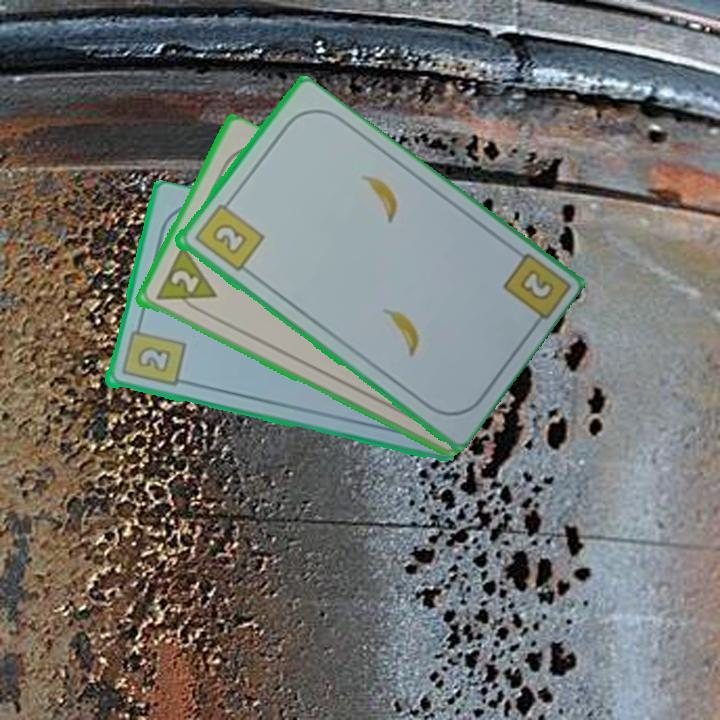2b: (190, 194, 266, 274), (118, 319, 187, 390), (515, 265, 557, 304)
2p: (151, 245, 219, 319)
